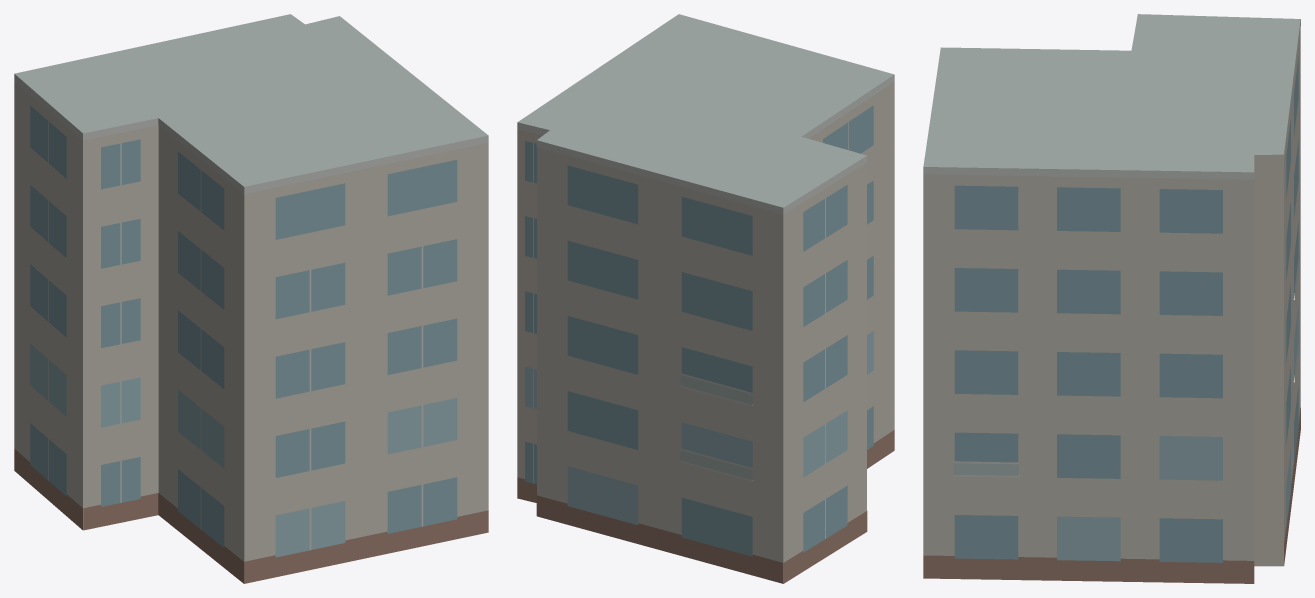
The model's file is survey-upis-32710033.glb.
3 views of the same model, side by side, from view 1: azimuth 30°, elevation 25°; view 2: azimuth 150°, elevation 25°; view 3: azimuth 270°, elevation 25° (orthographic). The views are drawn at different scales.
Visible parts, largest first — view 1: survey-upis-32710033.tmp; view 2: survey-upis-32710033.tmp; view 3: survey-upis-32710033.tmp.
Part boxes in pixels (x1,y1,x2,y2): survey-upis-32710033.tmp: (14, 14, 488, 583); survey-upis-32710033.tmp: (517, 14, 894, 583); survey-upis-32710033.tmp: (923, 14, 1300, 583).
Bounding box in the file's own units: 11.06 × 13.4 × 11.15.
